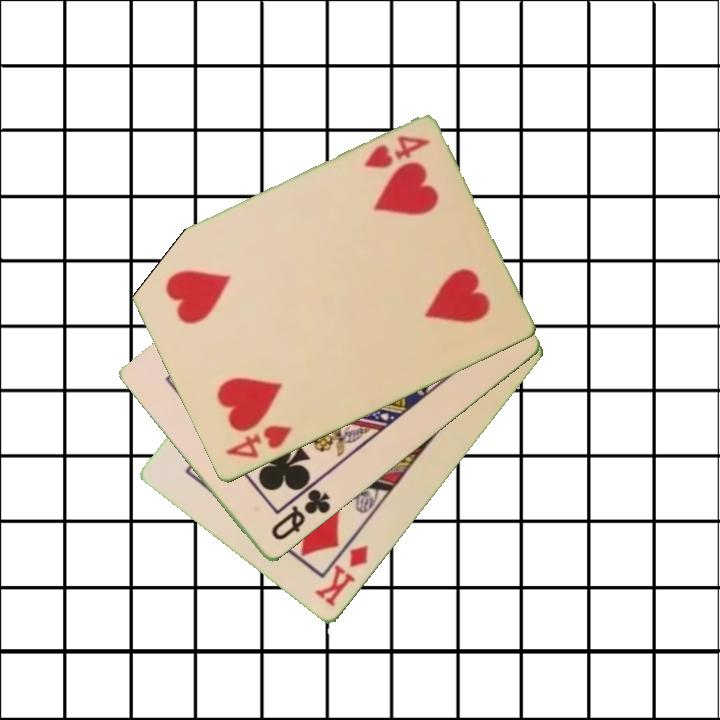4h: (360, 132, 434, 172), (222, 422, 295, 462)
Kd: (311, 541, 372, 610)
Qc: (267, 486, 334, 544)
